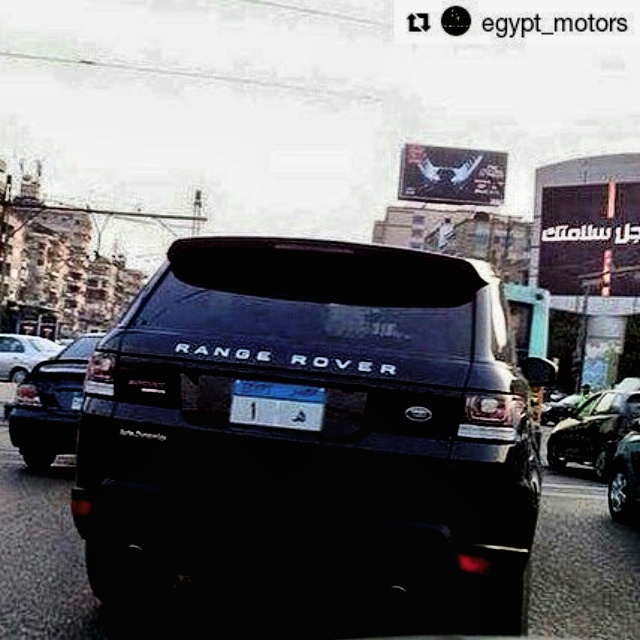License Plate: (224, 374, 329, 435)
